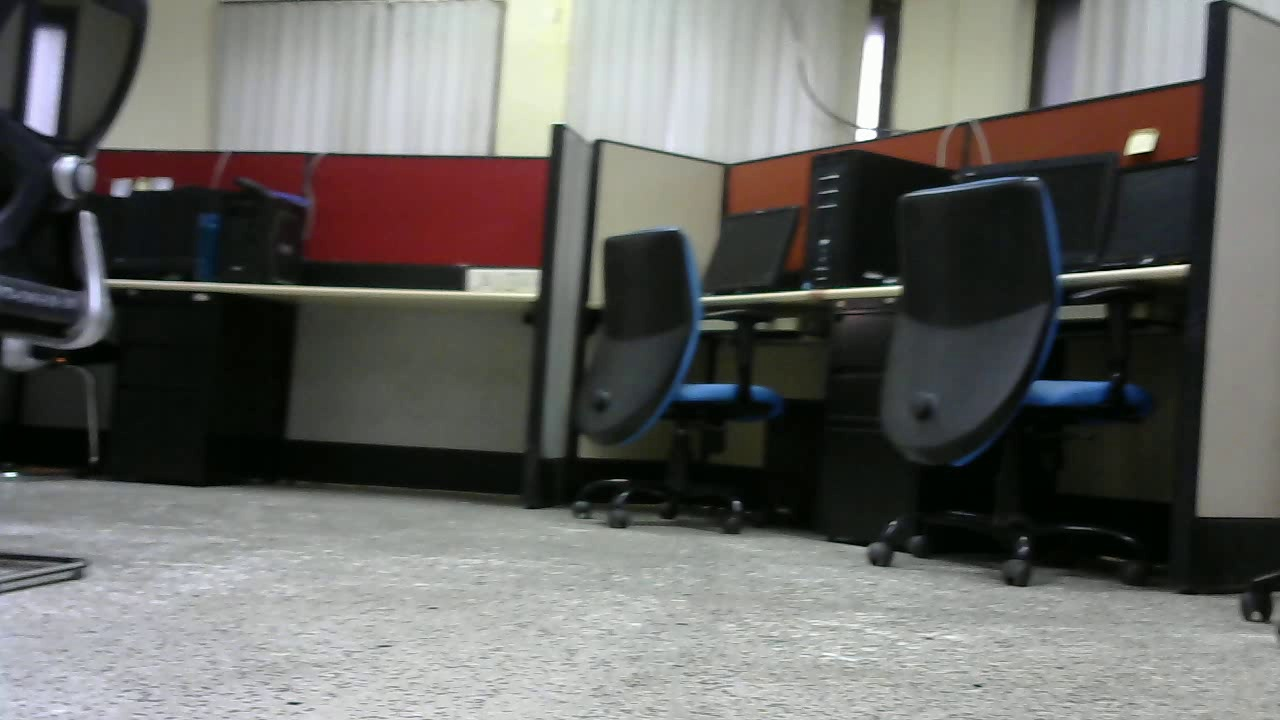chair: (855, 184, 1158, 591), (563, 223, 787, 535)
